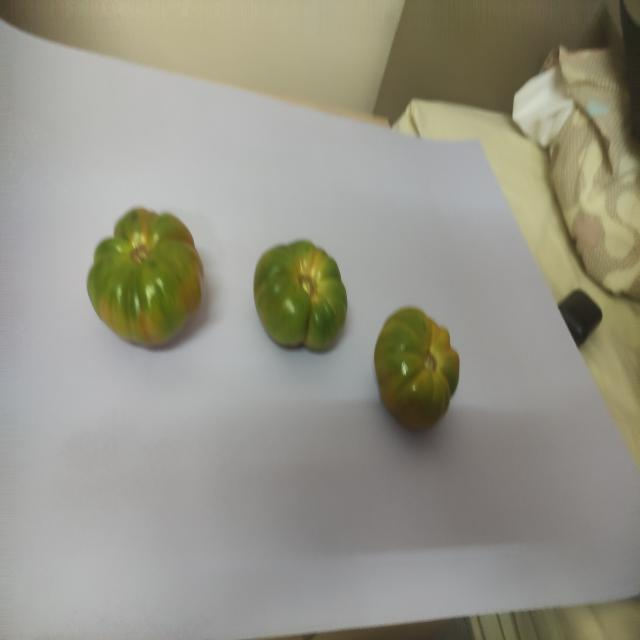yesil: (79, 188, 220, 354), (371, 293, 505, 431), (252, 228, 375, 358)
